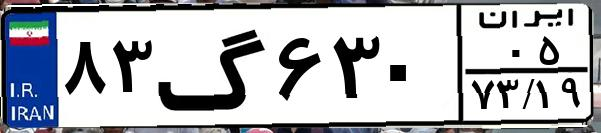0: (385, 28, 445, 110), (508, 27, 537, 80)
1: (535, 70, 560, 125)
3: (330, 28, 385, 110), (110, 28, 156, 98), (495, 70, 520, 125)
5: (537, 27, 568, 80)
6: (270, 28, 330, 110)
7: (470, 70, 495, 125)
8: (57, 26, 110, 100)
9: (560, 70, 590, 125)
گ: (156, 12, 270, 120)
